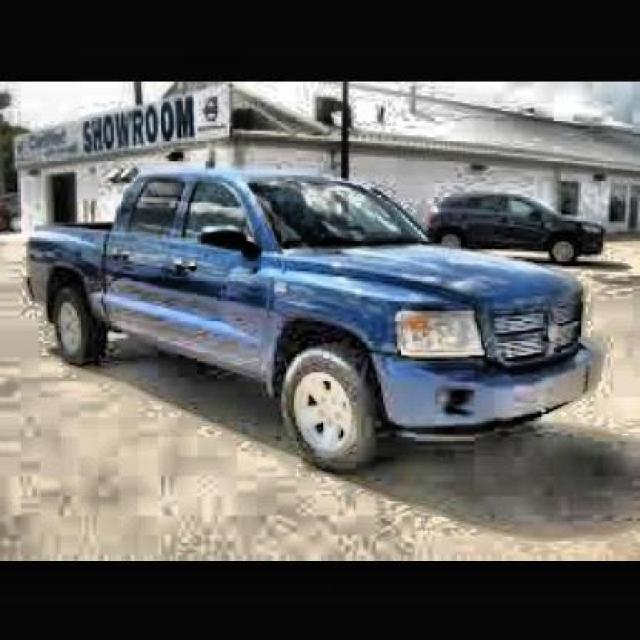blue: (12, 158, 640, 449)
